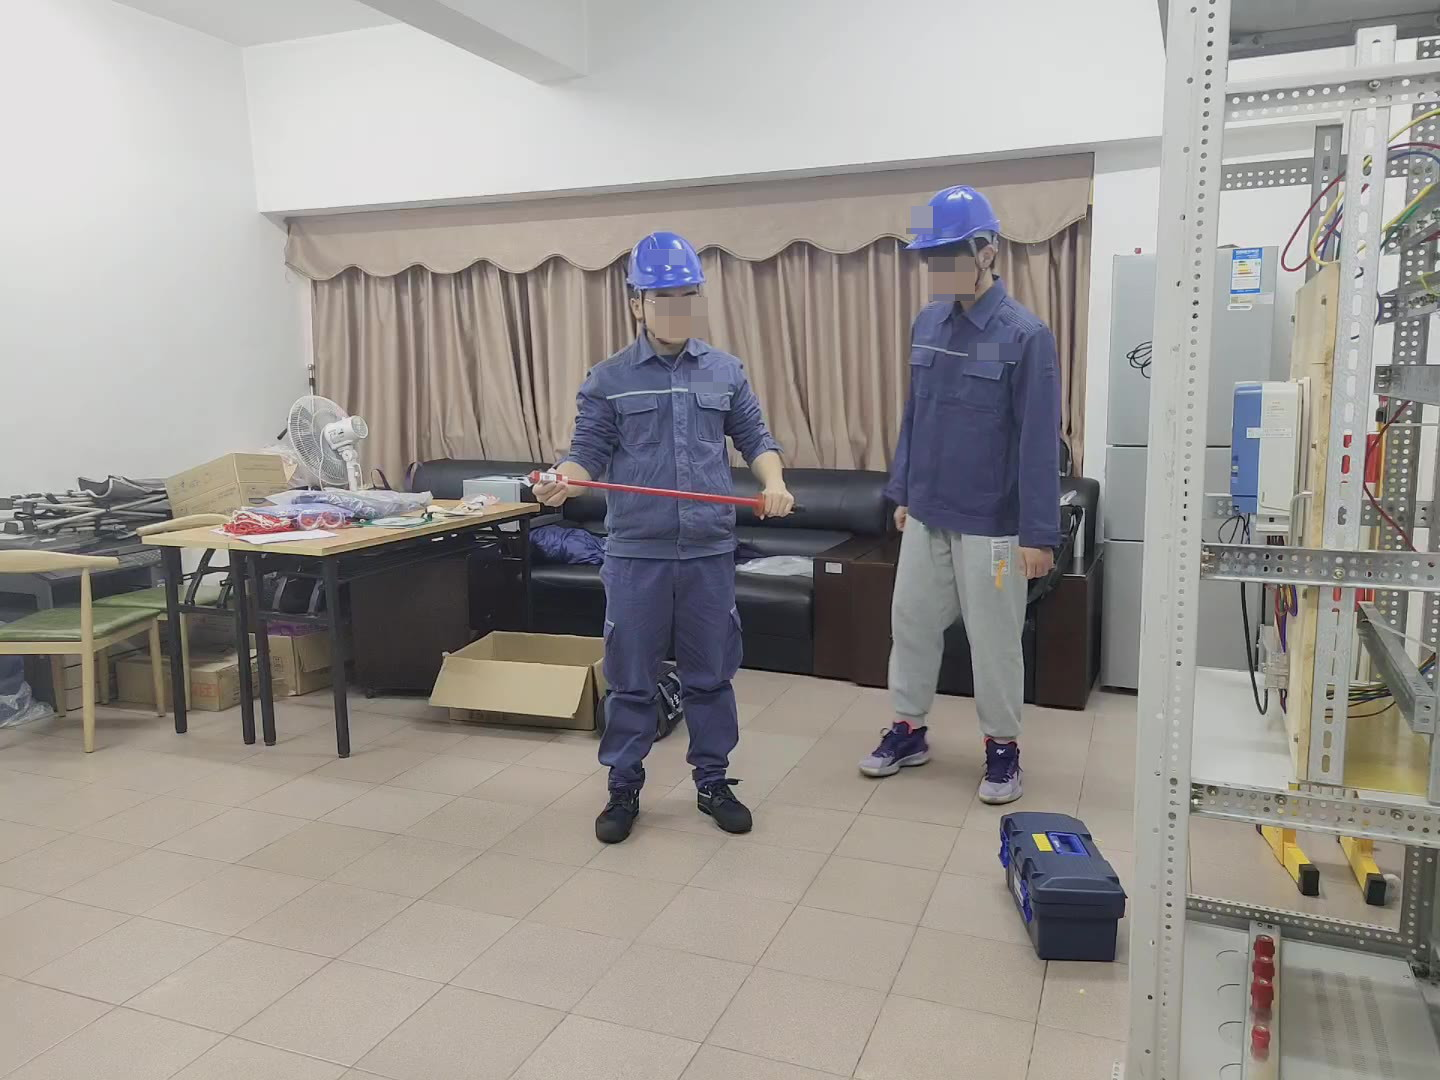downcloth: (885, 510, 1041, 751)
downsuit: (596, 576, 746, 795)
halt: (904, 183, 1008, 298), (621, 228, 711, 341)
hand: (530, 467, 573, 508), (1018, 540, 1055, 584), (756, 480, 797, 519)
inear: (958, 241, 998, 290), (625, 287, 655, 338)
person: (530, 224, 790, 837), (867, 181, 1067, 801)
testrod: (526, 465, 808, 519)
upsuit: (560, 333, 784, 551), (888, 285, 1062, 532)
wrongtop: (736, 414, 796, 494), (533, 443, 597, 514)
